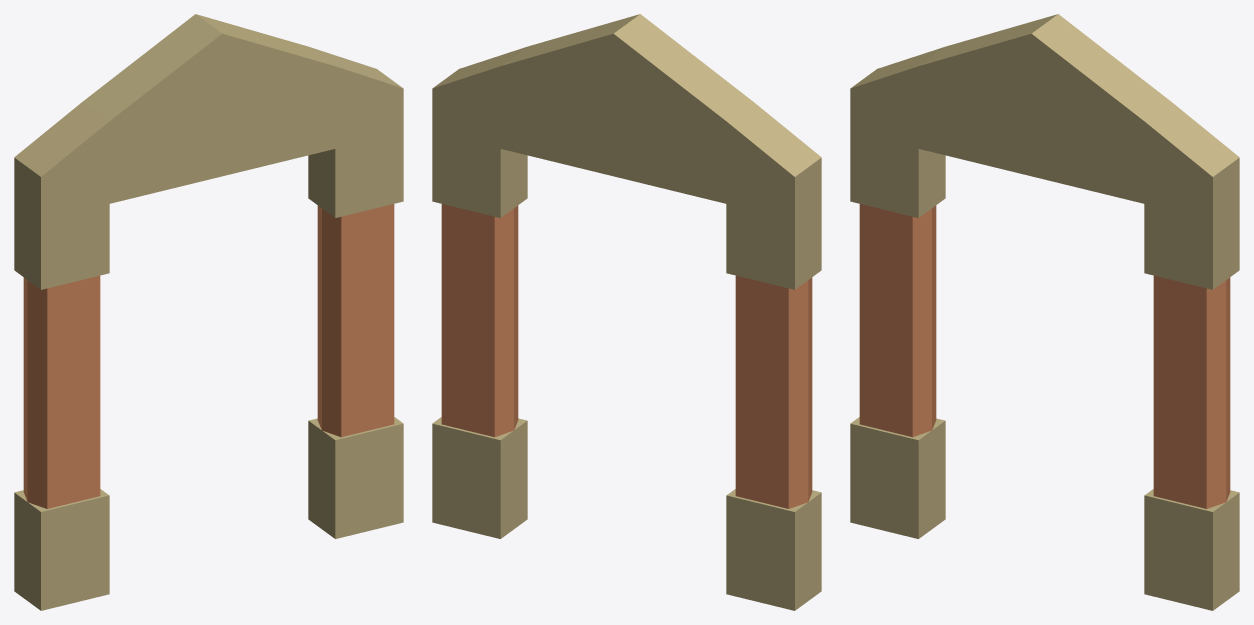
File: Archway.fbx
3 renders of one model, left to right at view 1: azimuth 30°, elevation 25°; view 2: azimuth 150°, elevation 25°; view 3: azimuth 330°, elevation 25°, orthographic.
Visible parts, largest first — view 1: Arch, Pillars; view 2: Arch, Pillars; view 3: Arch, Pillars.
Boxes of the visible parts, x1,y1,x2,y2 form: Arch: (14, 14, 403, 610); Pillars: (23, 204, 394, 508); Arch: (432, 14, 821, 610); Pillars: (441, 204, 812, 508); Arch: (850, 14, 1239, 610); Pillars: (859, 204, 1230, 508).
Size of the model in its own units: 1164 by 1635 by 150.
